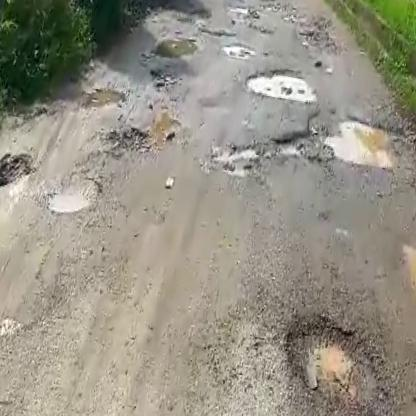pothole: (274, 312, 378, 413), (206, 125, 291, 185), (319, 114, 401, 173), (242, 61, 324, 105), (42, 173, 102, 220), (220, 38, 257, 58)
